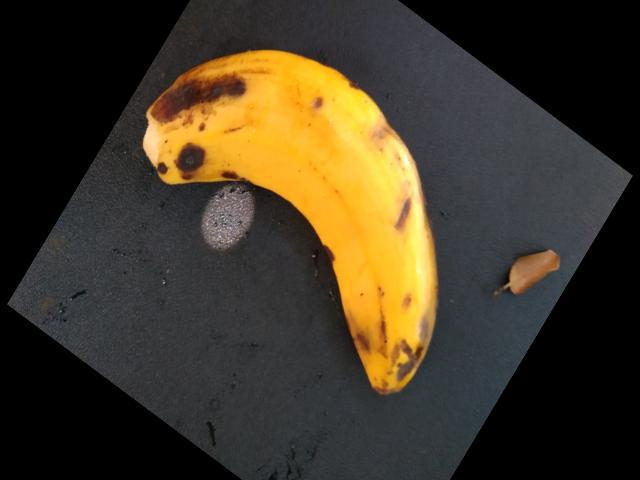overripe: (128, 38, 474, 405)
